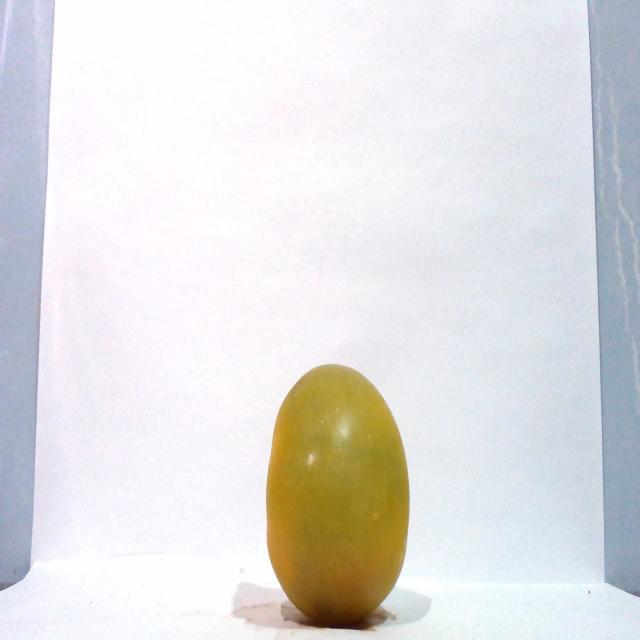Red: (264, 361, 411, 626)
